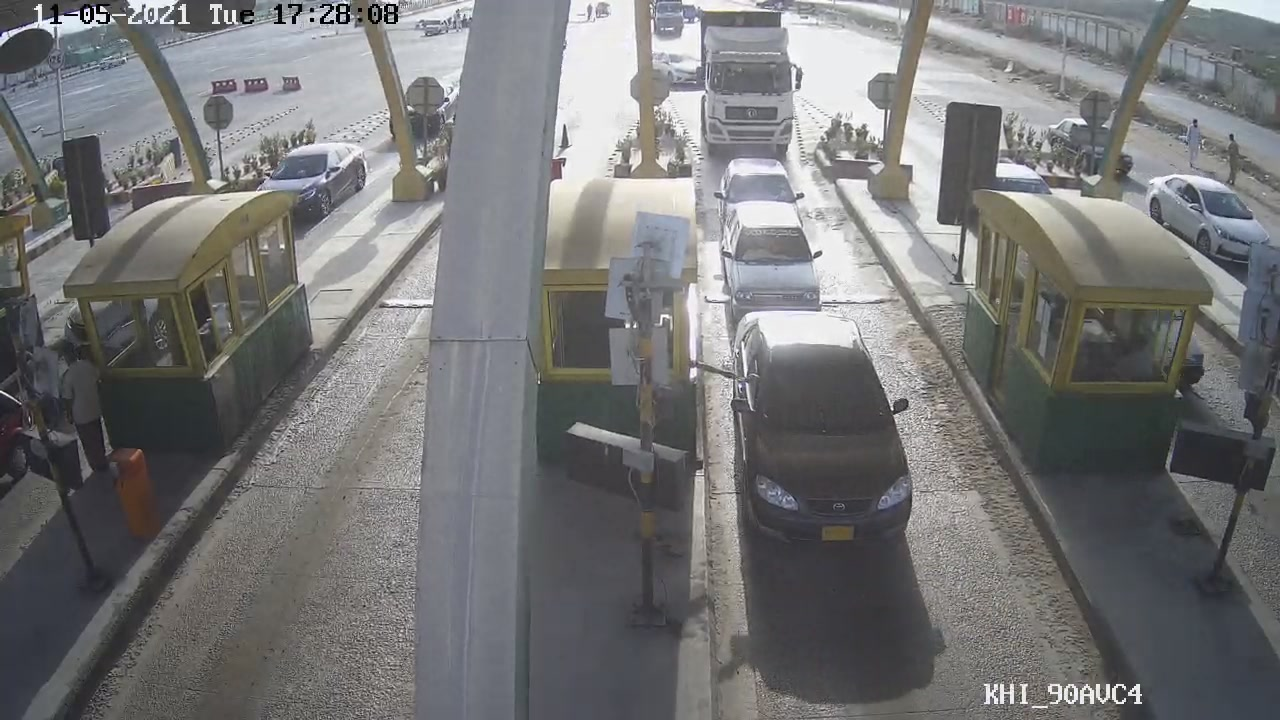F1: (722, 304, 929, 556)
